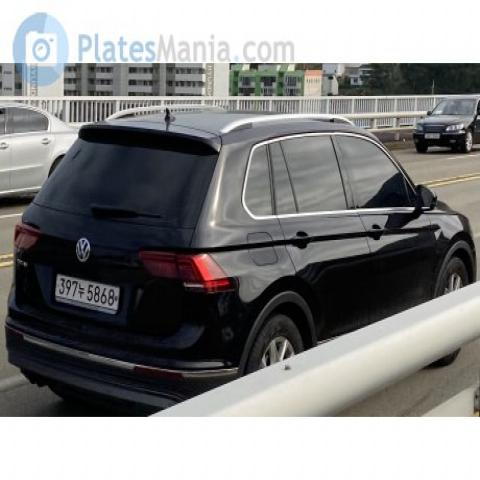LP: (48, 264, 129, 323)
